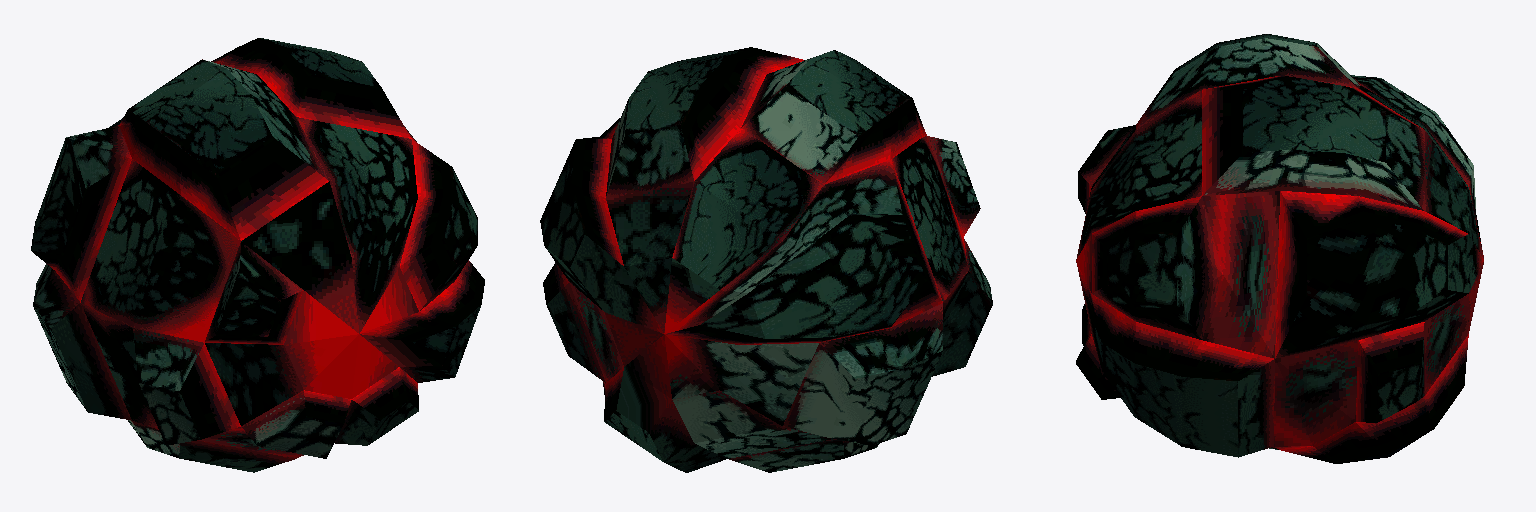
The picture shows the model from 3 angles: view 1: azimuth 30°, elevation 25°; view 2: azimuth 150°, elevation 25°; view 3: azimuth 270°, elevation 25°; orthographic projection.
Parts seen in each view (by area): view 1: Inst3D27_RefRep.425; view 2: Inst3D27_RefRep.425; view 3: Inst3D27_RefRep.425.
Part boxes in pixels (left/top/right/bottom): Inst3D27_RefRep.425: left=31, top=38, right=484, bottom=472; Inst3D27_RefRep.425: left=540, top=47, right=992, bottom=472; Inst3D27_RefRep.425: left=1076, top=34, right=1483, bottom=463.
Bounding box in the file's own units: 1.05 × 1.06 × 0.9763.
Materials: 1 (1 with a texture image).